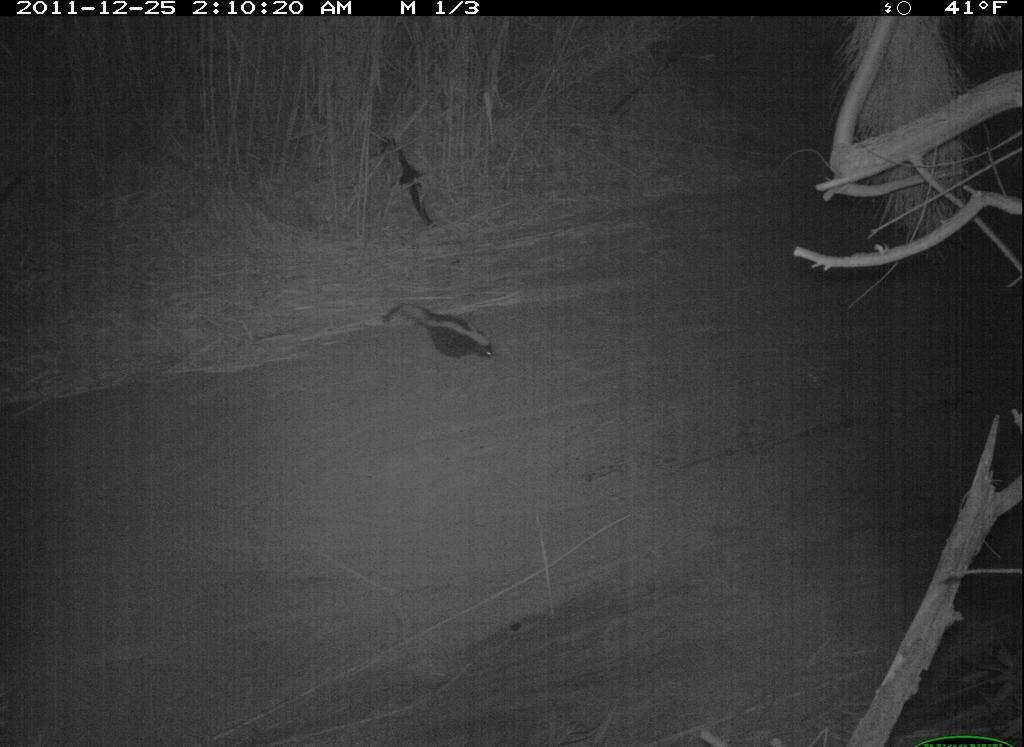skunk: (382, 295, 506, 367)
